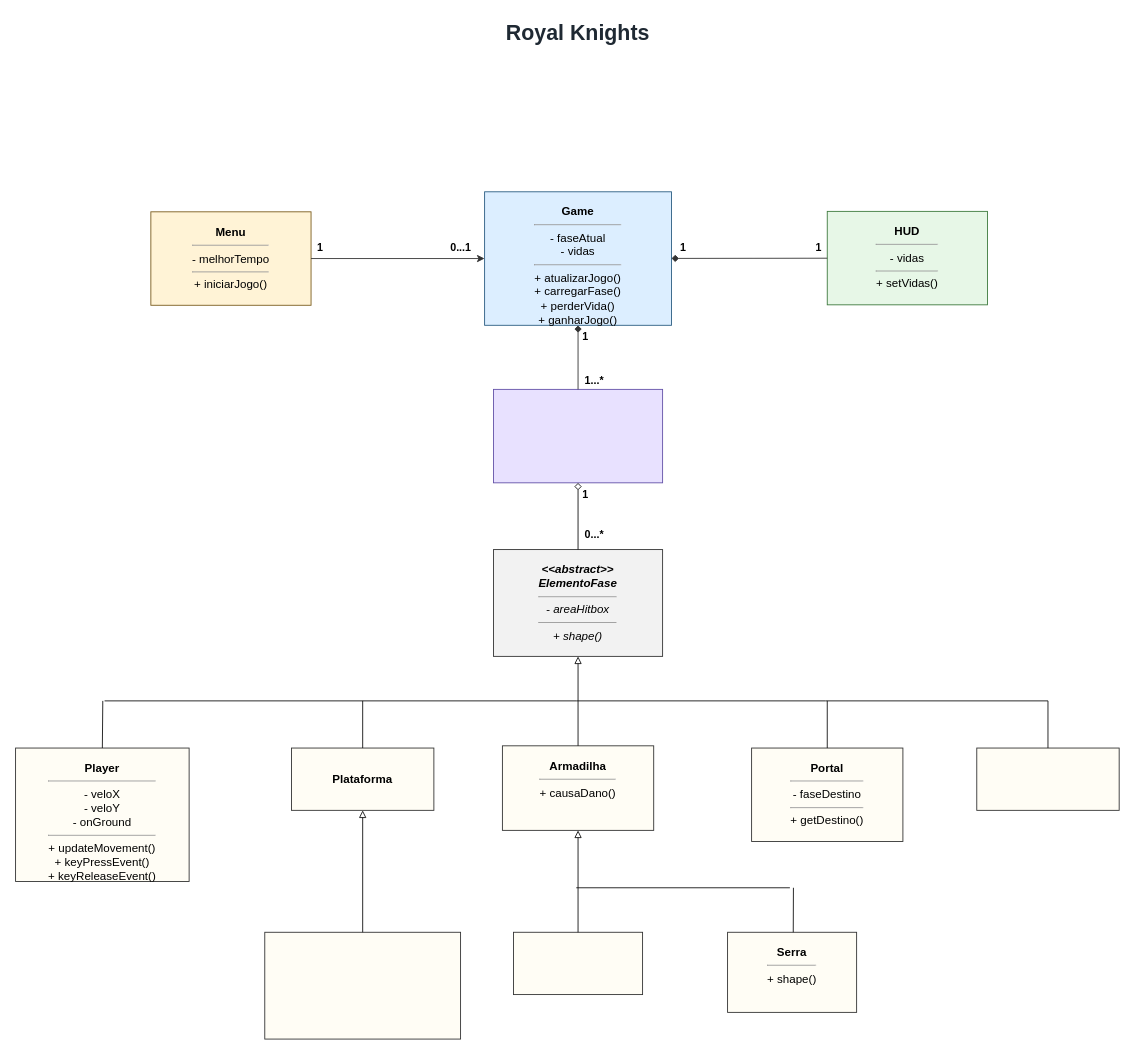
The diagram is 1135 pixels wide and 1055 high, and some of its shapes have lost their labels. Each missing label, with the box of its shape:
Espinho: (513, 931, 643, 995)
Fase - numeroFase + carregar(): (493, 388, 663, 483)
PlataformaMovel - inicio - fim - velocidade + deslocamentoUltimoFrame(): (264, 931, 461, 1039)
Princesa: (976, 747, 1119, 810)
